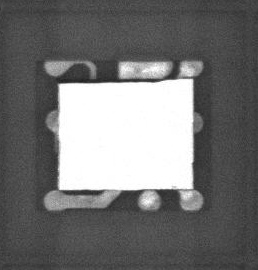DIE_BROKEN: (58, 78, 163, 83)
